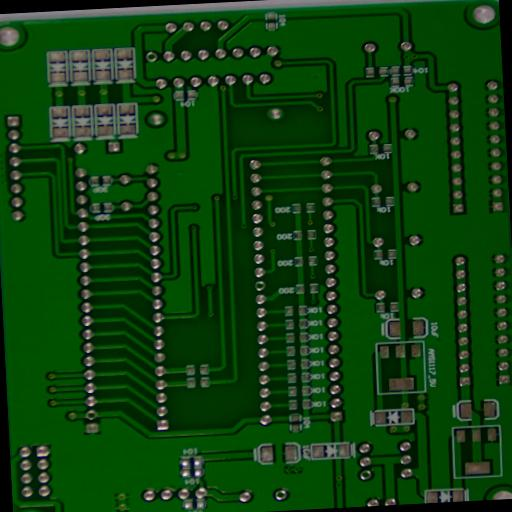missing_hole: (143, 48, 162, 62), (273, 488, 290, 501), (357, 468, 374, 480), (85, 407, 100, 420), (252, 280, 269, 290)
